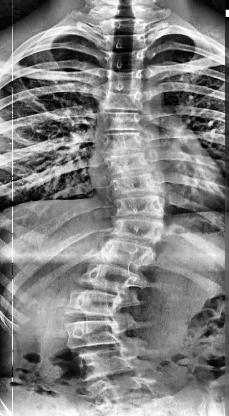Vertebrae: (74, 351, 140, 385), (104, 238, 160, 270), (63, 320, 123, 349), (68, 286, 123, 316), (88, 266, 134, 295), (118, 199, 168, 224), (112, 174, 164, 198), (115, 220, 165, 244), (104, 130, 154, 154), (105, 91, 151, 115), (103, 110, 148, 134), (105, 73, 150, 95), (103, 52, 145, 74), (108, 155, 154, 173), (104, 21, 148, 37), (105, 34, 143, 48)
